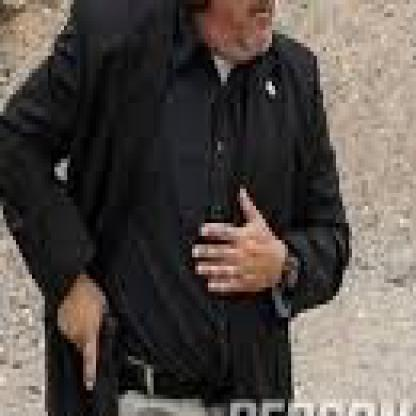gun: (48, 309, 125, 412)
